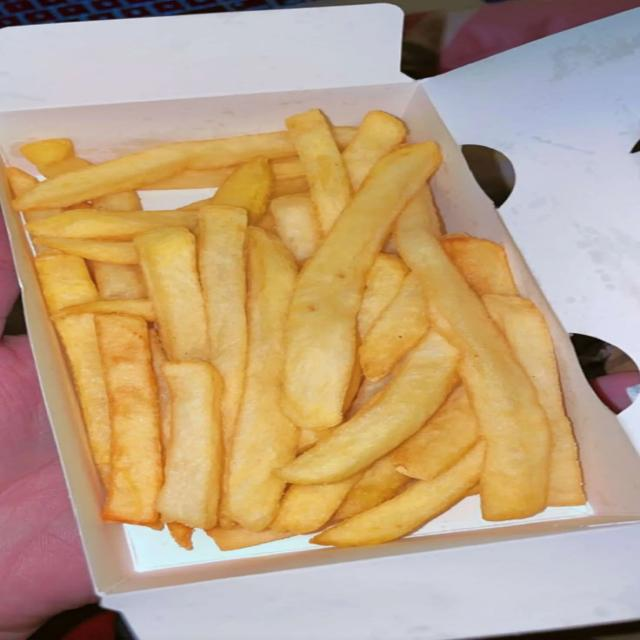potato fries: (7, 110, 585, 550), (395, 217, 550, 520), (284, 143, 440, 428), (279, 333, 459, 484), (223, 228, 297, 531), (483, 295, 585, 506), (311, 443, 484, 547), (95, 315, 162, 524), (198, 206, 247, 466), (198, 206, 247, 448), (14, 147, 186, 210), (158, 362, 222, 529), (134, 228, 208, 361), (54, 314, 111, 486), (286, 110, 351, 234), (393, 387, 479, 480), (359, 274, 428, 380), (27, 210, 196, 240), (343, 111, 406, 190), (165, 132, 296, 169), (271, 478, 357, 534), (335, 455, 410, 519), (441, 236, 518, 295), (358, 254, 407, 339), (212, 157, 273, 224), (35, 253, 98, 313), (270, 196, 319, 263), (394, 186, 443, 244), (36, 237, 138, 264), (149, 329, 171, 451), (141, 167, 235, 190), (61, 300, 155, 322), (92, 262, 146, 299), (207, 528, 292, 551), (20, 139, 73, 167), (39, 156, 92, 178), (6, 167, 38, 197), (93, 191, 141, 211), (167, 523, 193, 550), (273, 177, 308, 197)
